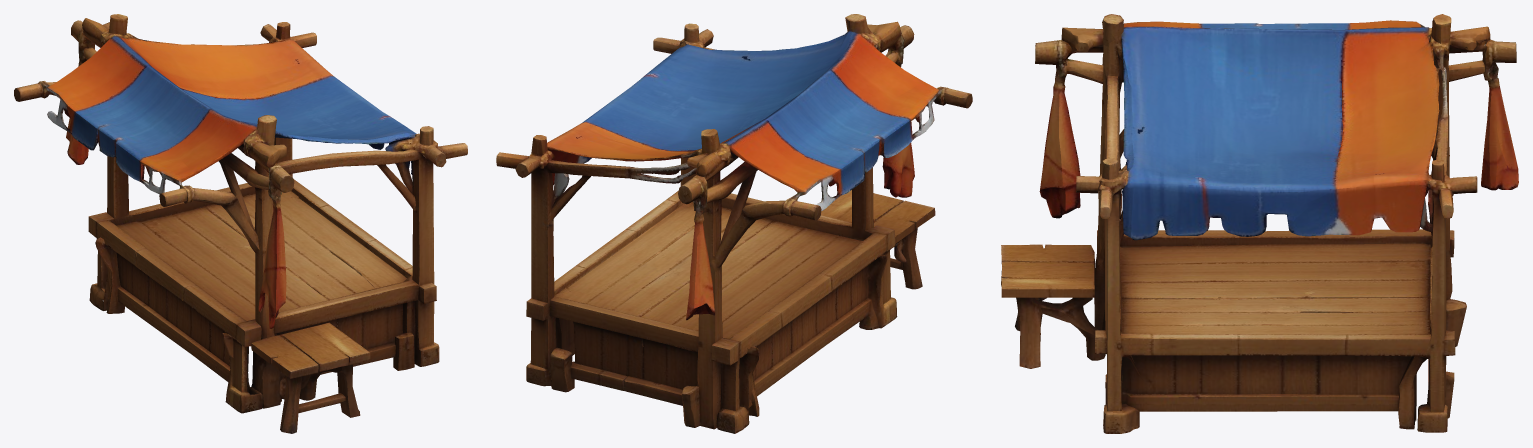
File: market_stall_B.glb
3 views of the same model, side by side, from view 1: azimuth 30°, elevation 25°; view 2: azimuth 150°, elevation 25°; view 3: azimuth 270°, elevation 25° (orthographic). The views are drawn at different scales.
Parts seen in each view (by area): view 1: market_stall_B, canopy; view 2: market_stall_B, canopy; view 3: market_stall_B, canopy.
Part boxes in pixels (box(x1,y1,x2,y2)): market_stall_B: box(66, 118, 439, 433); canopy: box(14, 14, 467, 236); market_stall_B: box(526, 143, 935, 433); canopy: box(496, 14, 972, 242); market_stall_B: box(1001, 66, 1518, 433); canopy: box(1035, 14, 1516, 229).
Bounding box in the file's own units: 3.6 × 3.22 × 4.69.
Materials: 1 (1 with a texture image).
